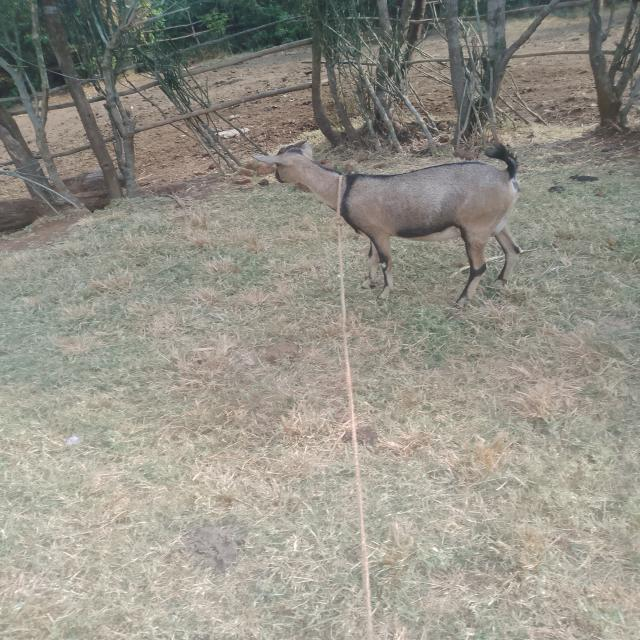goat: (195, 93, 580, 362)
